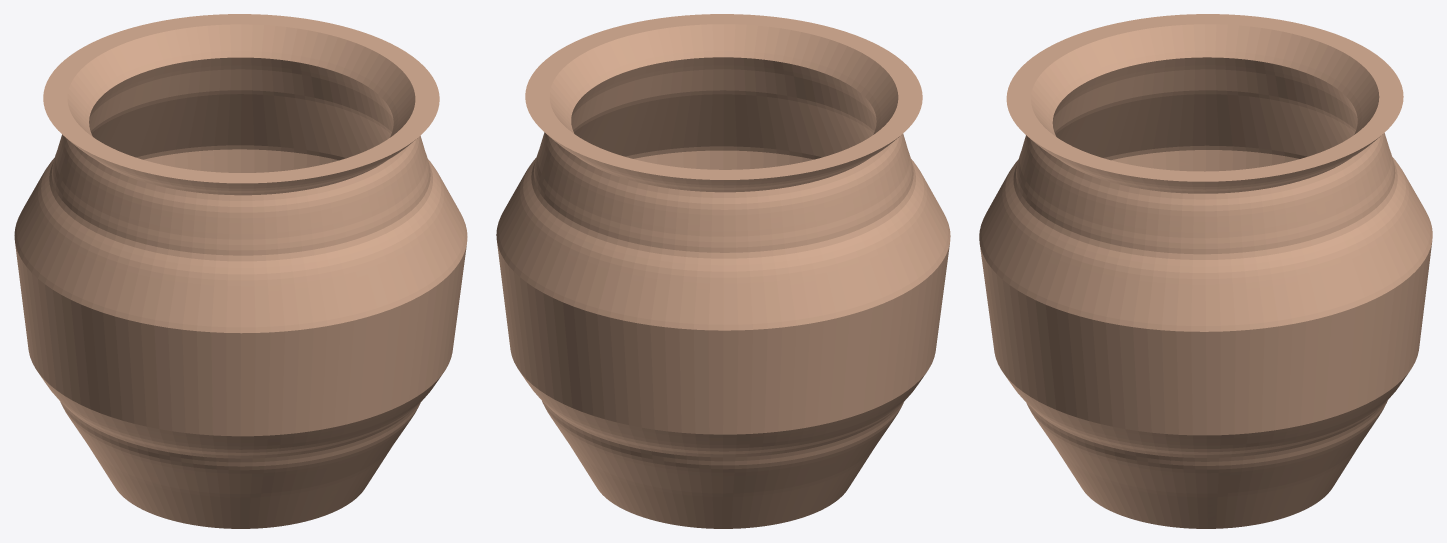
File: Pot_02_Bulbous_Olive.glb
3 views of the same model, side by side, from view 1: azimuth 30°, elevation 25°; view 2: azimuth 150°, elevation 25°; view 3: azimuth 270°, elevation 25° (orthographic).
Parts seen in each view (by area): view 1: Pot_02_Bulbous_Olive; view 2: Pot_02_Bulbous_Olive; view 3: Pot_02_Bulbous_Olive.
Boxes of the visible parts, x1=… form: Pot_02_Bulbous_Olive: x1=14, y1=14, x2=467, y2=528; Pot_02_Bulbous_Olive: x1=496, y1=14, x2=950, y2=528; Pot_02_Bulbous_Olive: x1=979, y1=14, x2=1432, y2=528.
Size of the model in its own units: 0.2239 by 0.206 by 0.2239.
